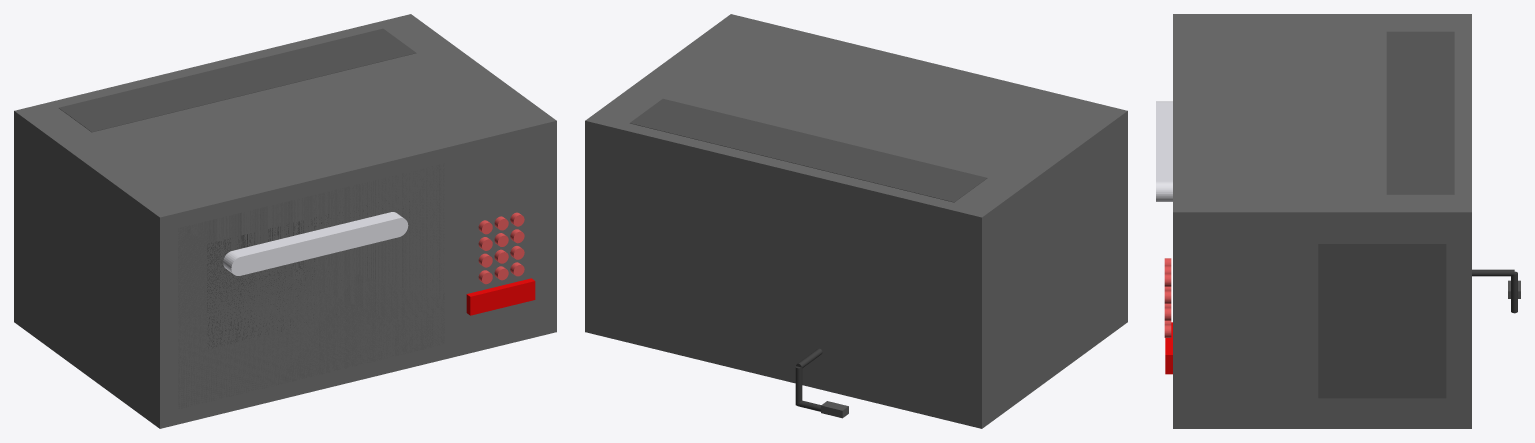
3 views of the same model, side by side, from view 1: azimuth 30°, elevation 25°; view 2: azimuth 150°, elevation 25°; view 3: azimuth 270°, elevation 25° (orthographic). The views are drawn at different scales.
Parts seen in each view (by area): view 1: Microwave_Shell, Door_Frame, Top_Vent, Door_Handle, Door_Open_Button, Door_Window; view 2: Microwave_Shell, Top_Vent; view 3: Microwave_Shell, Side_Vent, Top_Vent, Door_Handle, Handle_Cap_Right.
Boxes of the visible parts, left/top/right/bottom form: Microwave_Shell: left=14, top=14, right=556, bottom=428; Door_Frame: left=178, top=163, right=444, bottom=408; Top_Vent: left=59, top=28, right=416, bottom=132; Door_Handle: left=232, top=212, right=399, bottom=275; Door_Open_Button: left=466, top=278, right=535, bottom=315; Door_Window: left=207, top=214, right=328, bottom=346; Microwave_Shell: left=585, top=14, right=1127, bottom=428; Top_Vent: left=630, top=98, right=987, bottom=202; Microwave_Shell: left=1173, top=14, right=1471, bottom=428; Side_Vent: left=1318, top=243, right=1446, bottom=398; Top_Vent: left=1386, top=31, right=1454, bottom=194; Door_Handle: left=1156, top=102, right=1172, bottom=181; Handle_Cap_Right: left=1156, top=181, right=1172, bottom=201.
Bounding box in the file's own units: 0.5505 × 0.2825 × 0.4275.
